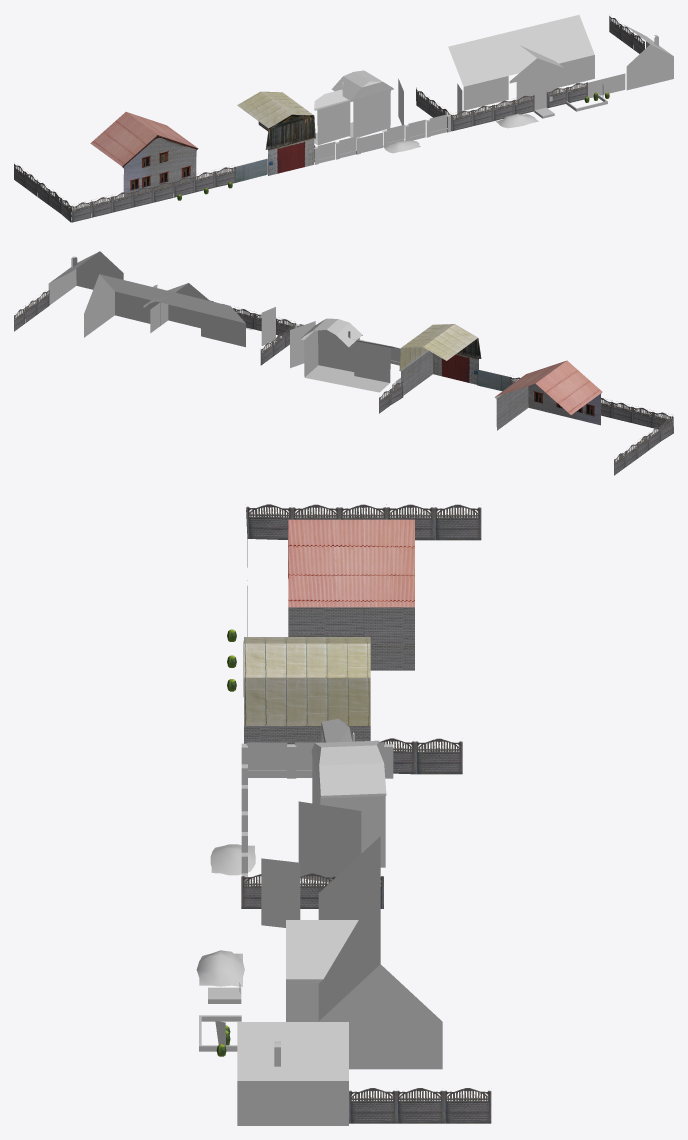
The model's file is houses.FBX.
3 renders of one model, top to bottom at view 1: azimuth 30°, elevation 25°; view 2: azimuth 150°, elevation 25°; view 3: azimuth 270°, elevation 25°, orthographic. The views are drawn at different scales.
Visible parts, largest first — view 1: house3, house2, house4; view 2: house2, house3, house4; view 3: house3, house2, house4.
Boxes of the visible parts, left/top/right/bottom form: house3: left=416, top=15, right=673, bottom=131; house2: left=14, top=91, right=609, bottom=222; house4: left=314, top=70, right=451, bottom=164; house2: left=379, top=324, right=673, bottom=475; house3: left=14, top=251, right=296, bottom=365; house4: left=290, top=318, right=400, bottom=392; house3: left=196, top=836, right=491, bottom=1125; house2: left=216, top=504, right=481, bottom=1056; house4: left=210, top=718, right=393, bottom=885.
Size of the model in its own units: 9243 by 863 by 1966.
